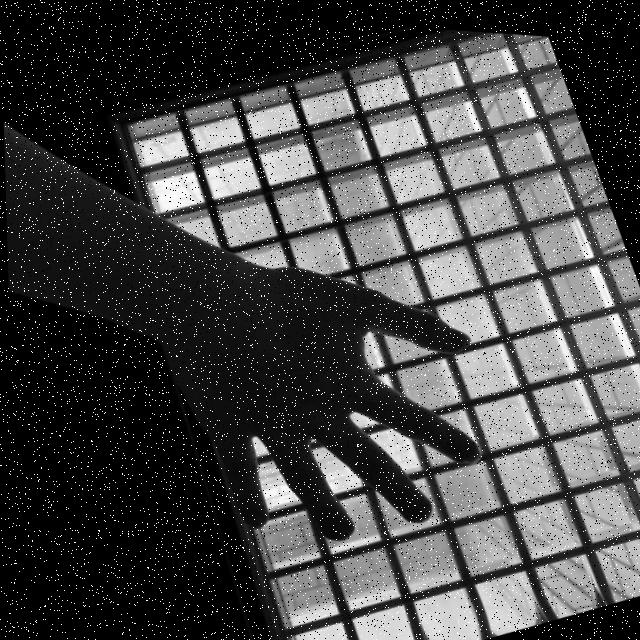hand: (141, 201, 527, 584)
